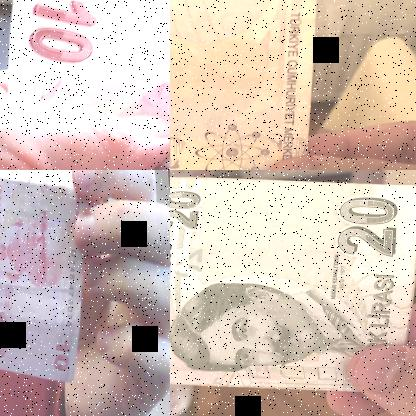5 TL: (11, 0, 169, 169)
